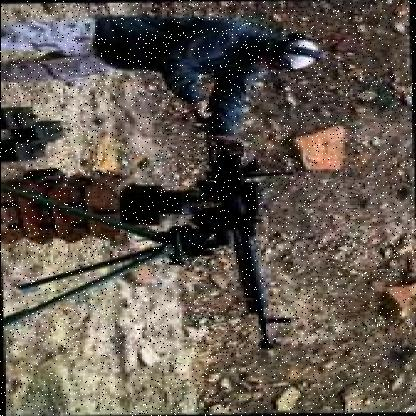rifle: (196, 151, 282, 359)
